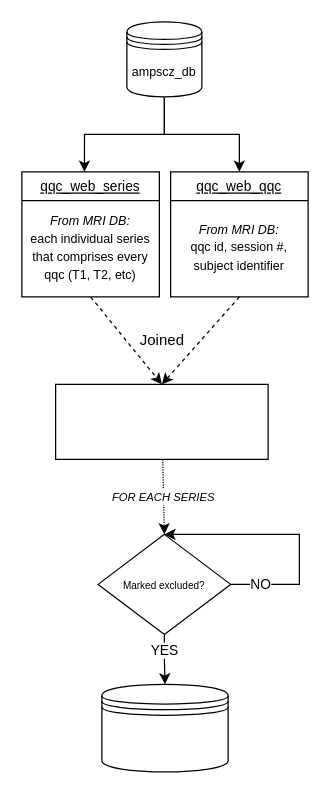
The diagram is 331 pixels wide and 794 high, and some of its shapes have lost their labels. Each missing label, with the centre of its shape:
"all_series_df List of MRI series with applicable QQC ID, subject ID, session #" goes at [161,421].
"excluded_series_df" goes at [164,727].
